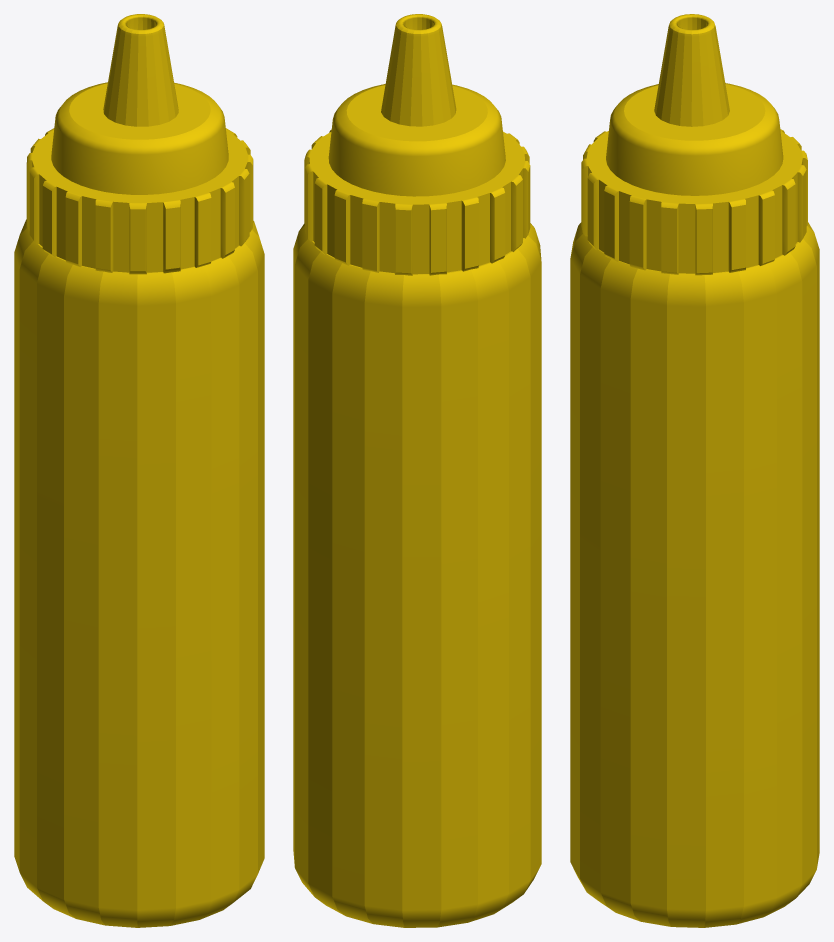
The model's file is mustardBottle.fbx.
The picture shows the model from 3 angles, left to right: view 1: azimuth 30°, elevation 25°; view 2: azimuth 150°, elevation 25°; view 3: azimuth 270°, elevation 25°; orthographic projection.
Parts seen in each view (by area): view 1: ketchupBottle, ketchupCap, ketchupTip; view 2: ketchupBottle, ketchupCap, ketchupTip; view 3: ketchupBottle, ketchupCap, ketchupTip.
Boxes of the visible parts, x1,y1,x2,y2 form: ketchupBottle: [14, 219, 264, 927]; ketchupCap: [26, 82, 253, 274]; ketchupTip: [103, 14, 178, 126]; ketchupBottle: [293, 223, 541, 927]; ketchupCap: [304, 84, 530, 275]; ketchupTip: [381, 14, 456, 126]; ketchupBottle: [570, 222, 819, 927]; ketchupCap: [581, 83, 807, 275]; ketchupTip: [654, 14, 729, 126].
Size of the model in its own units: 1.99 by 7.61 by 1.99.
